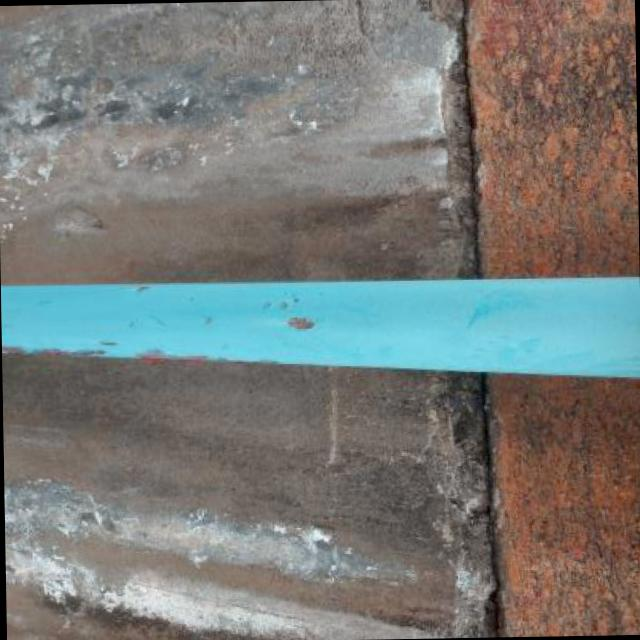gas: (0, 277, 640, 377)
